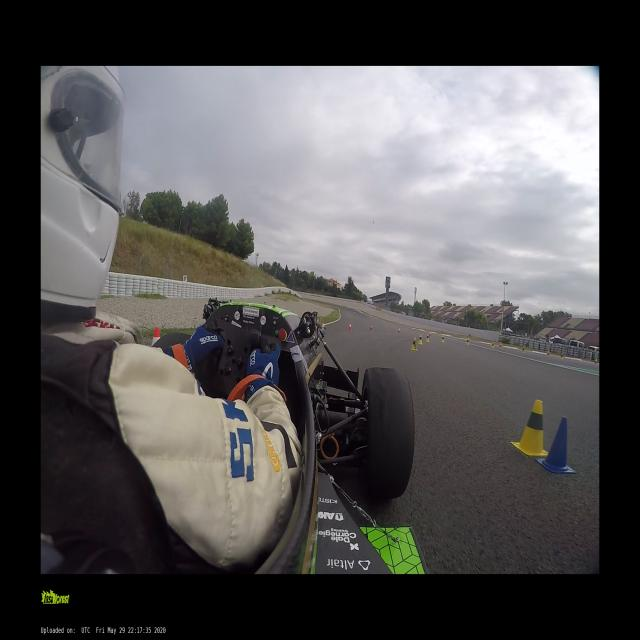blue_cone: (536, 417, 576, 473)
orange_cone: (151, 328, 166, 372), (320, 322, 326, 333), (347, 322, 352, 331), (428, 330, 432, 336), (369, 324, 372, 331), (398, 327, 401, 333), (594, 358, 597, 364), (498, 343, 502, 347), (547, 350, 549, 356)
yellow_cone: (513, 401, 548, 455), (410, 338, 418, 350), (418, 335, 423, 345), (425, 335, 430, 342), (441, 336, 445, 343), (490, 342, 494, 349), (465, 339, 469, 345), (559, 354, 563, 359), (522, 347, 524, 352)
